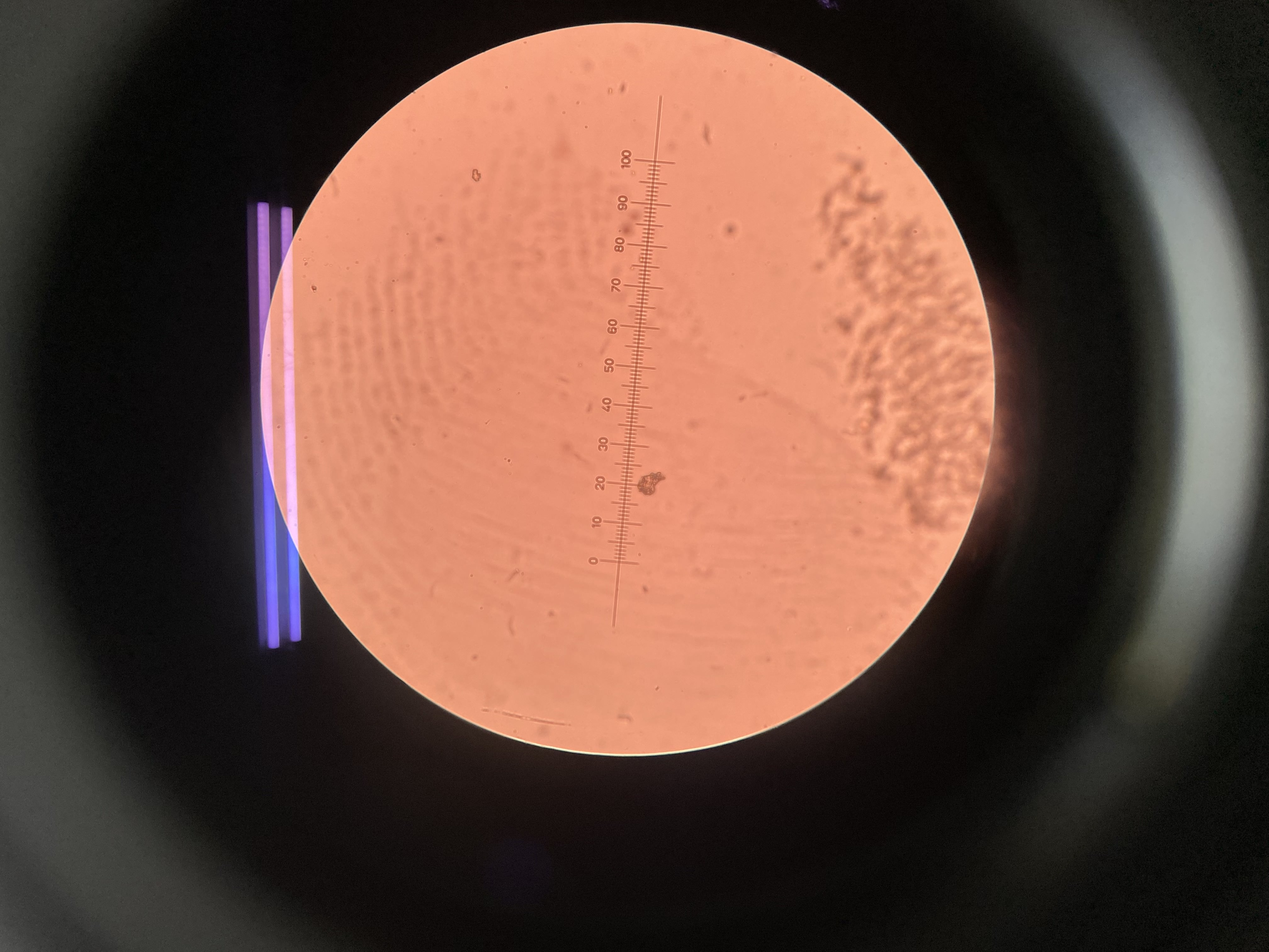microplastic: (805, 146, 1018, 547), (634, 469, 674, 499), (470, 164, 486, 182), (724, 223, 740, 236)
